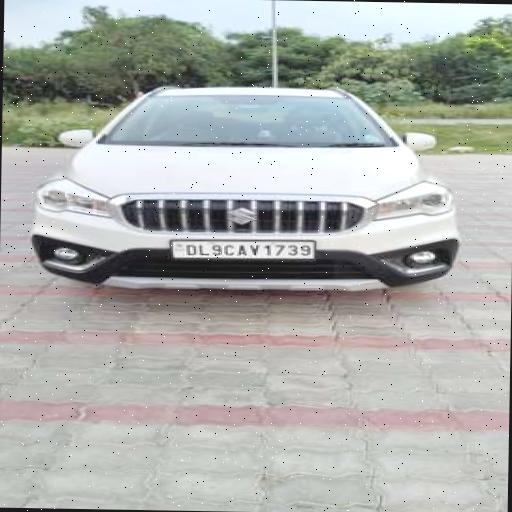license_plate`: (170, 238, 312, 258)
